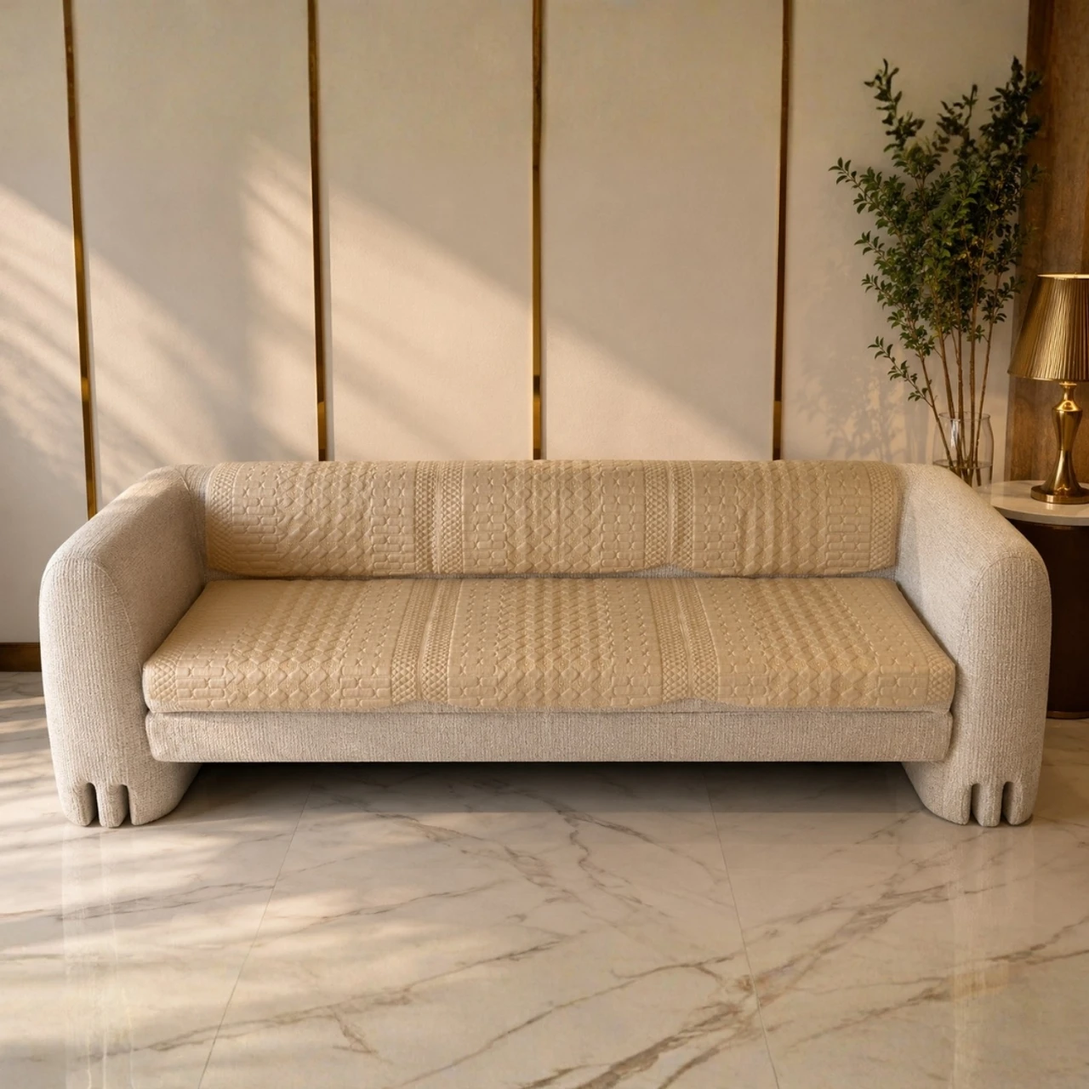3seatersofa: (41, 461, 1049, 826)
backrest: (205, 460, 898, 576)
base: (145, 709, 949, 762)
leftarmrest: (892, 465, 1050, 773)
leg: (904, 719, 1042, 826), (54, 757, 199, 827)
rightarmrest: (41, 471, 202, 782)
seat: (144, 578, 953, 711)
